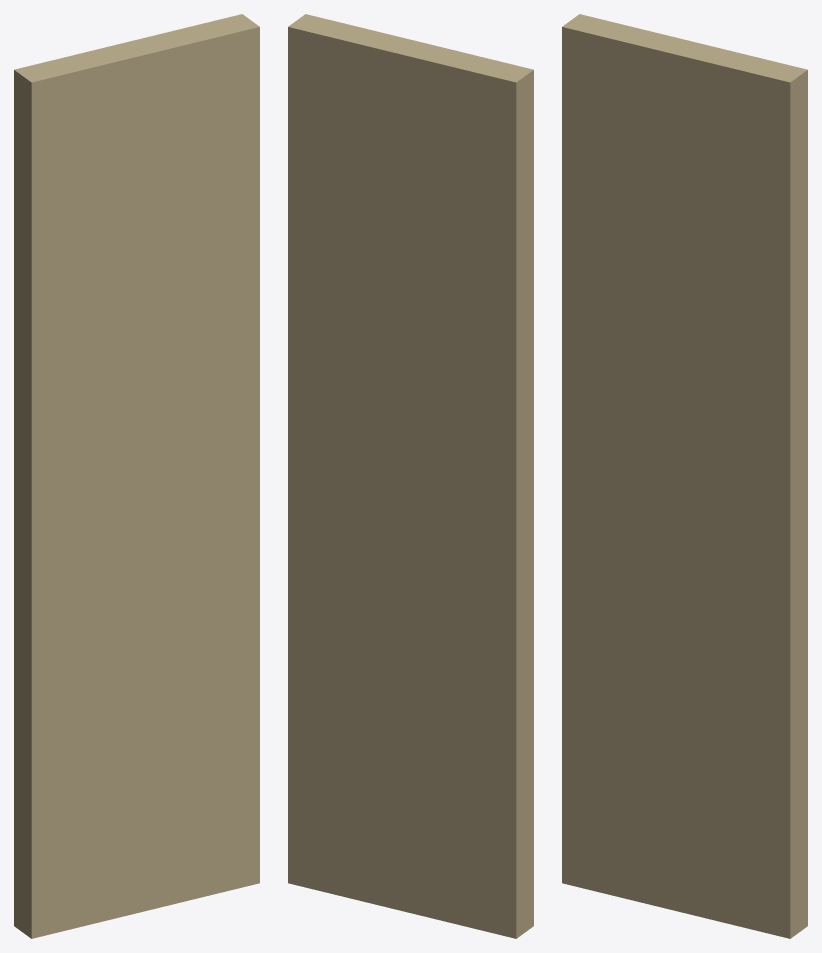
3 views of the same model, side by side, from view 1: azimuth 30°, elevation 25°; view 2: azimuth 150°, elevation 25°; view 3: azimuth 330°, elevation 25° (orthographic).
Visible parts, largest first — view 1: GF-W134; view 2: GF-W134; view 3: GF-W134.
Part boxes in pixels (x1=…): GF-W134: x1=14, y1=14, x2=259, y2=938; GF-W134: x1=288, y1=14, x2=533, y2=938; GF-W134: x1=562, y1=14, x2=807, y2=938.
Size of the model in its own units: 0.6753 by 2.42 by 0.09.
